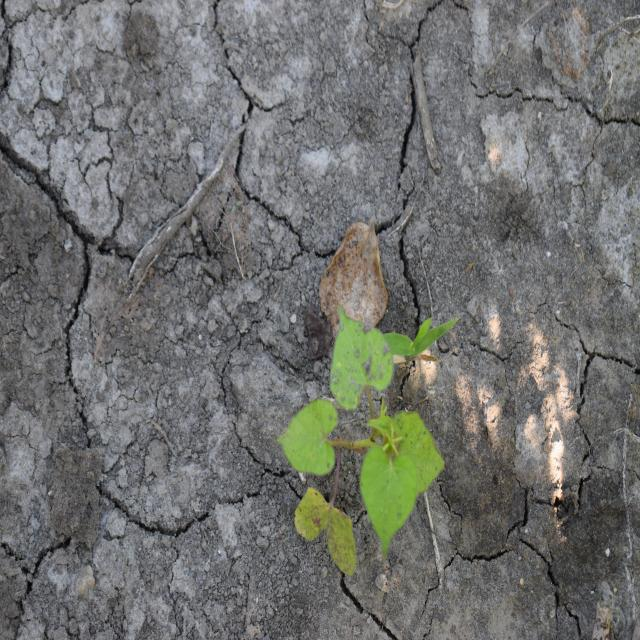MorningGlory: (274, 302, 446, 578)
